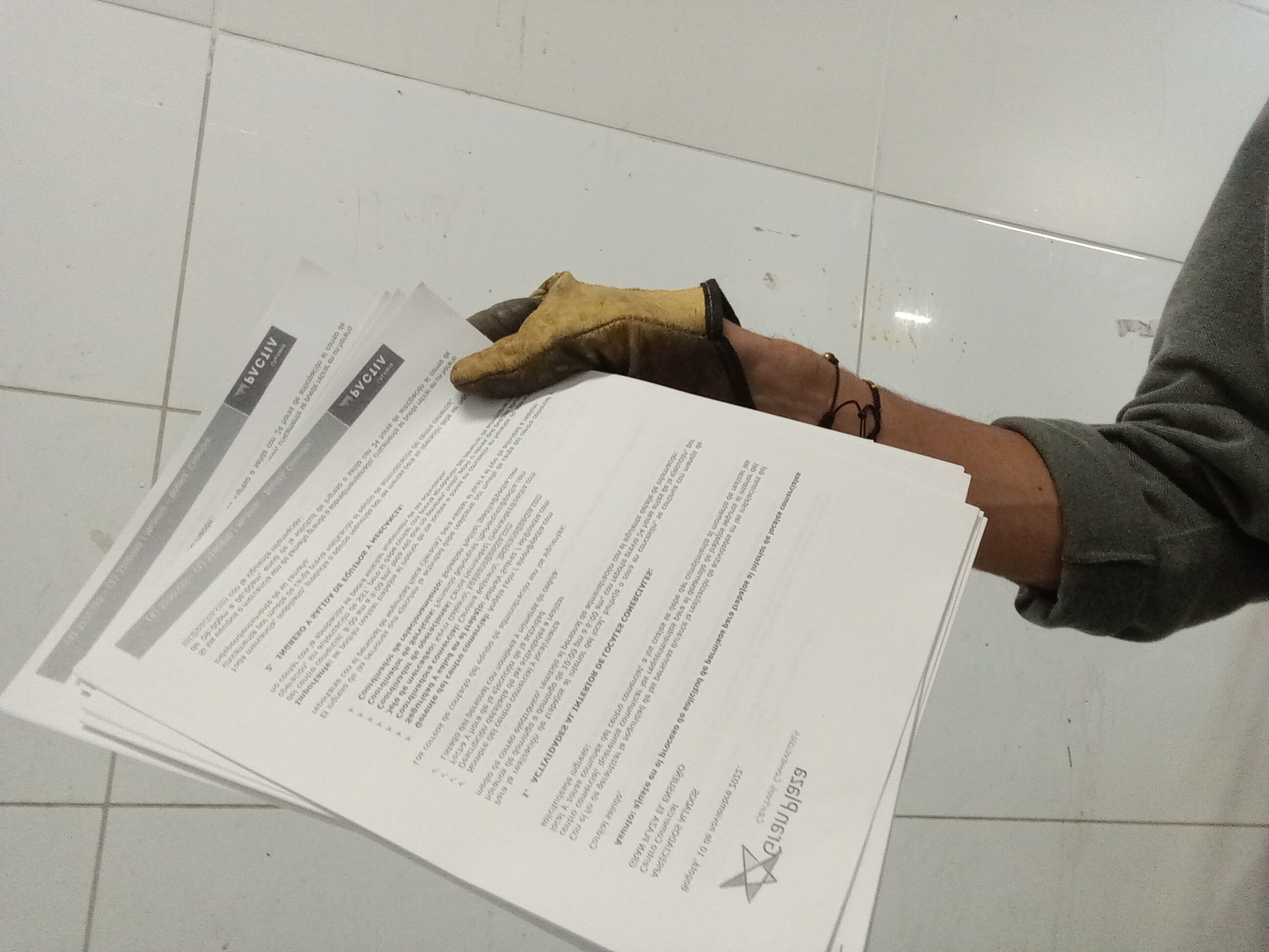Papel: (0, 255, 989, 952)
